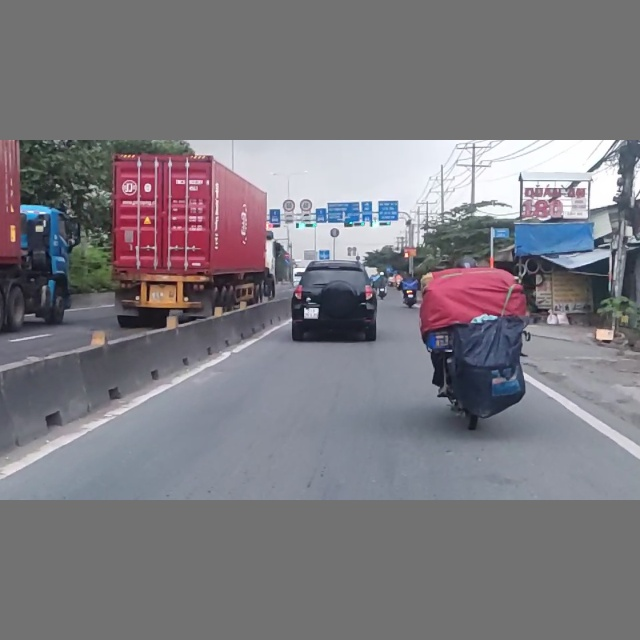P.127*60: (299, 199, 312, 211)
P.127*80: (283, 199, 295, 212)
